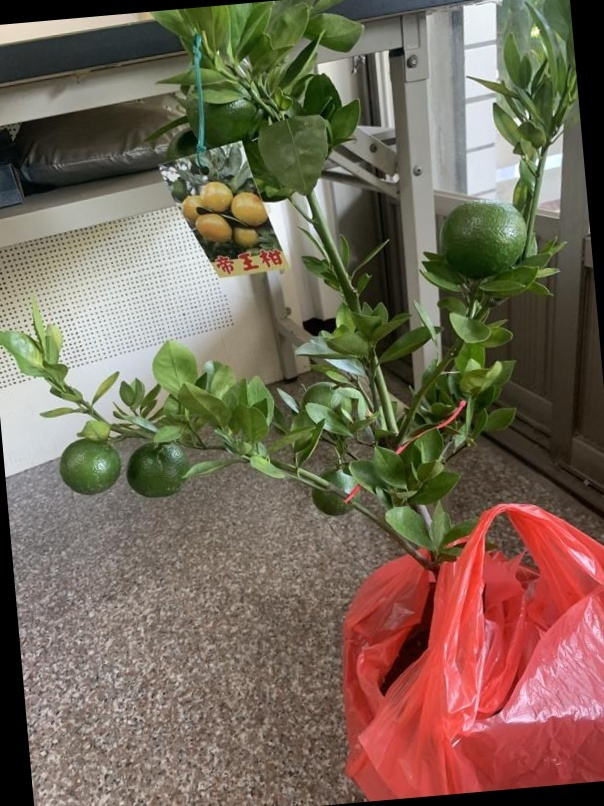Tangerine: (445, 197, 538, 285), (123, 439, 190, 496), (62, 433, 121, 496)
